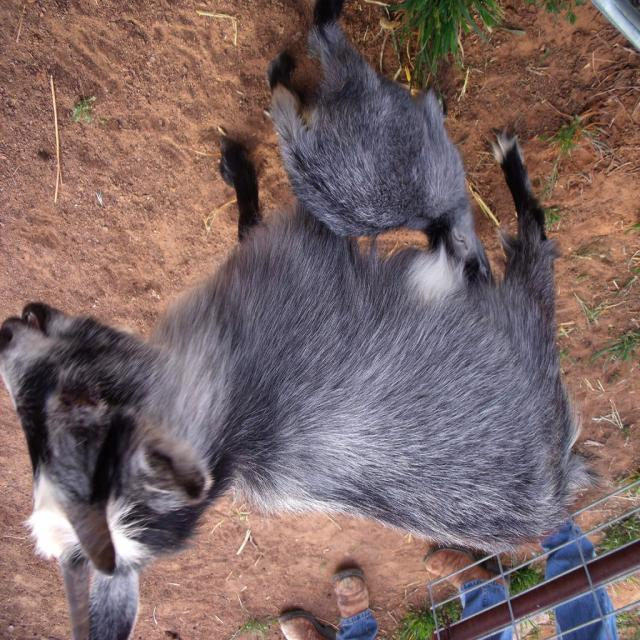Goat: (0, 122, 606, 640), (265, 2, 481, 267)
